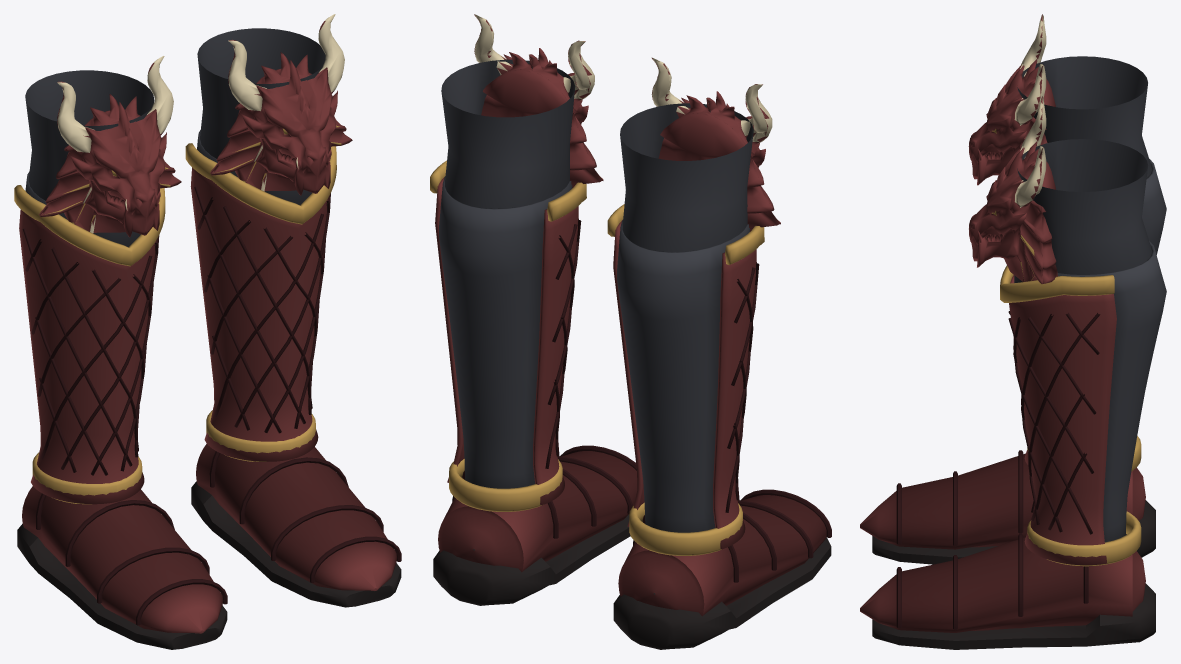
Rendered from f_dragonknight_f.glb.
The picture shows the model from 3 angles, left to right: view 1: azimuth 30°, elevation 25°; view 2: azimuth 150°, elevation 25°; view 3: azimuth 270°, elevation 25°; orthographic projection. The views are drawn at different scales.
Visible parts, largest first — view 1: LegR_Boot, LegL_Boot, LegR_BootFoot, LegL_BootFoot; view 2: LegR_Boot, LegL_Boot, LegR_BootFoot, LegL_BootFoot; view 3: LegL_Boot, LegL_BootFoot, LegR_Boot, LegR_BootFoot.
Part boxes in pixels (box(x1,y1,x2,y2)): LegR_Boot: box(14, 56, 181, 504); LegL_Boot: box(185, 14, 352, 461); LegR_BootFoot: box(17, 486, 227, 649); LegL_BootFoot: box(191, 444, 401, 607); LegR_Boot: box(607, 57, 780, 555); LegL_Boot: box(430, 14, 603, 511); LegR_BootFoot: box(613, 489, 831, 649); LegL_BootFoot: box(433, 445, 637, 605); LegL_Boot: box(969, 96, 1166, 566); LegL_BootFoot: box(860, 533, 1155, 649); LegR_Boot: box(968, 14, 1166, 471); LegR_BootFoot: box(860, 450, 1155, 564).
Bounding box in the file's own units: 0.3852 × 0.6057 × 0.3324.
